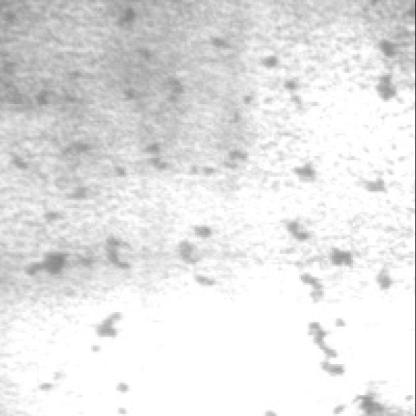pitted_surface: (102, 94, 397, 408), (8, 14, 396, 224)
